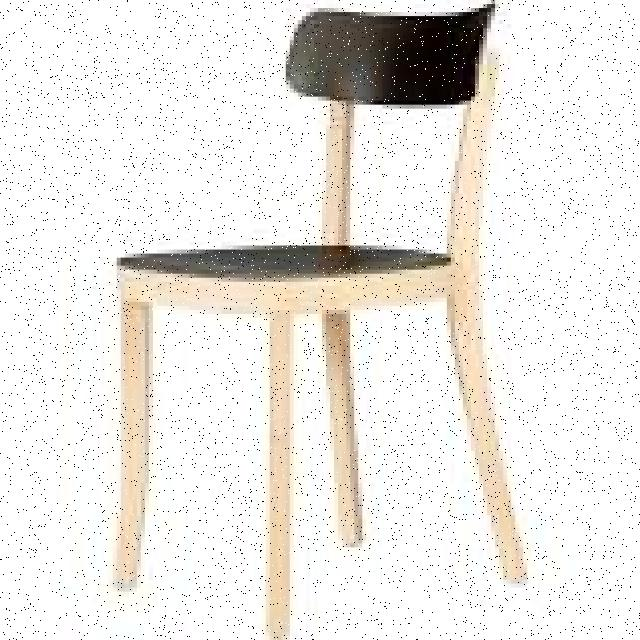bottle: (112, 0, 532, 635)
